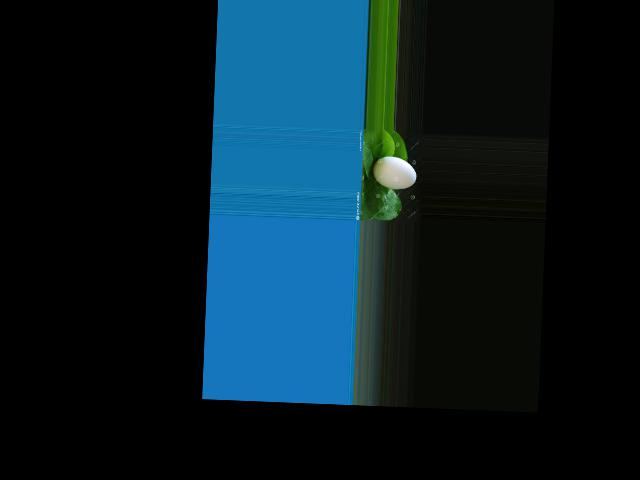egg: (372, 155, 417, 189)
